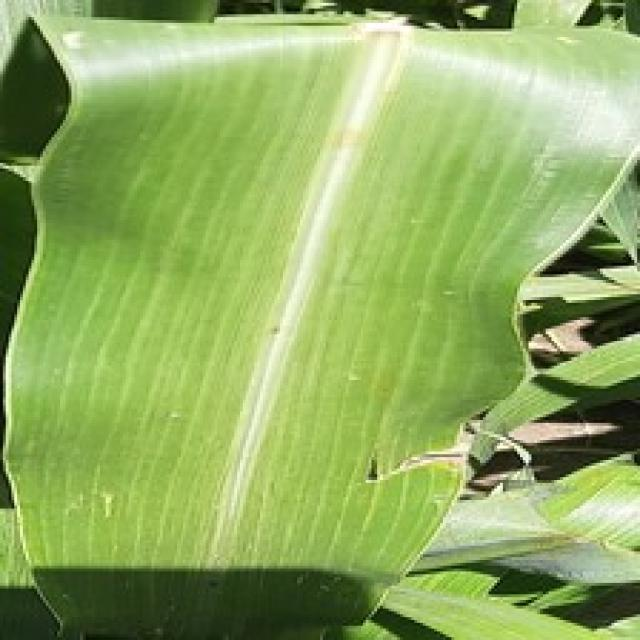Corn: (0, 6, 637, 637), (0, 157, 37, 509)
